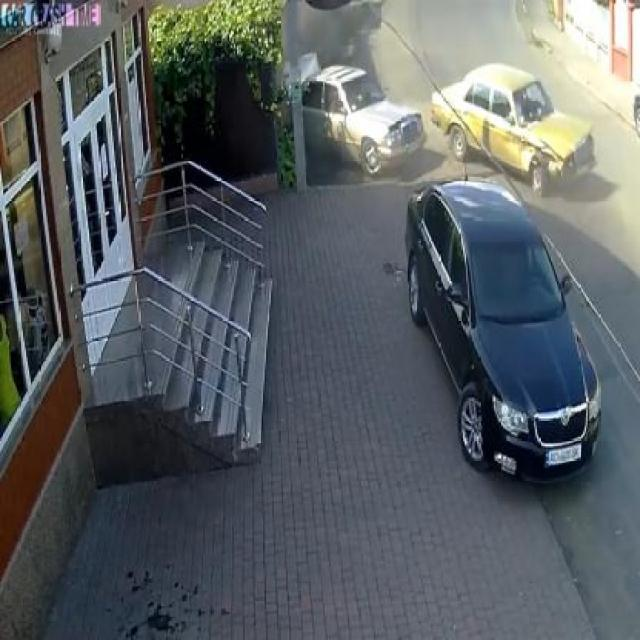accident: (303, 65, 594, 190)
